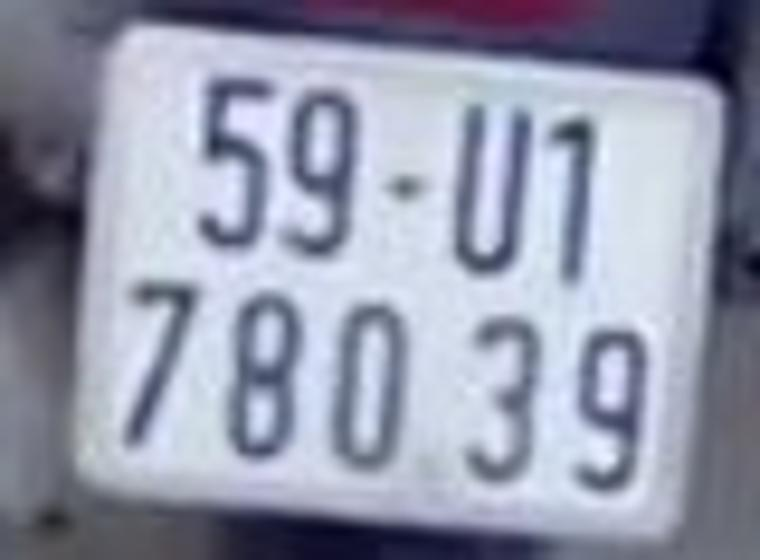-: (386, 169, 428, 202)
0: (335, 300, 409, 474)
1: (543, 111, 601, 288)
3: (465, 315, 542, 484)
5: (194, 73, 273, 253)
7: (126, 277, 199, 439)
8: (226, 291, 306, 460)
9: (282, 84, 360, 264), (569, 326, 649, 495)
U: (452, 101, 528, 275)
